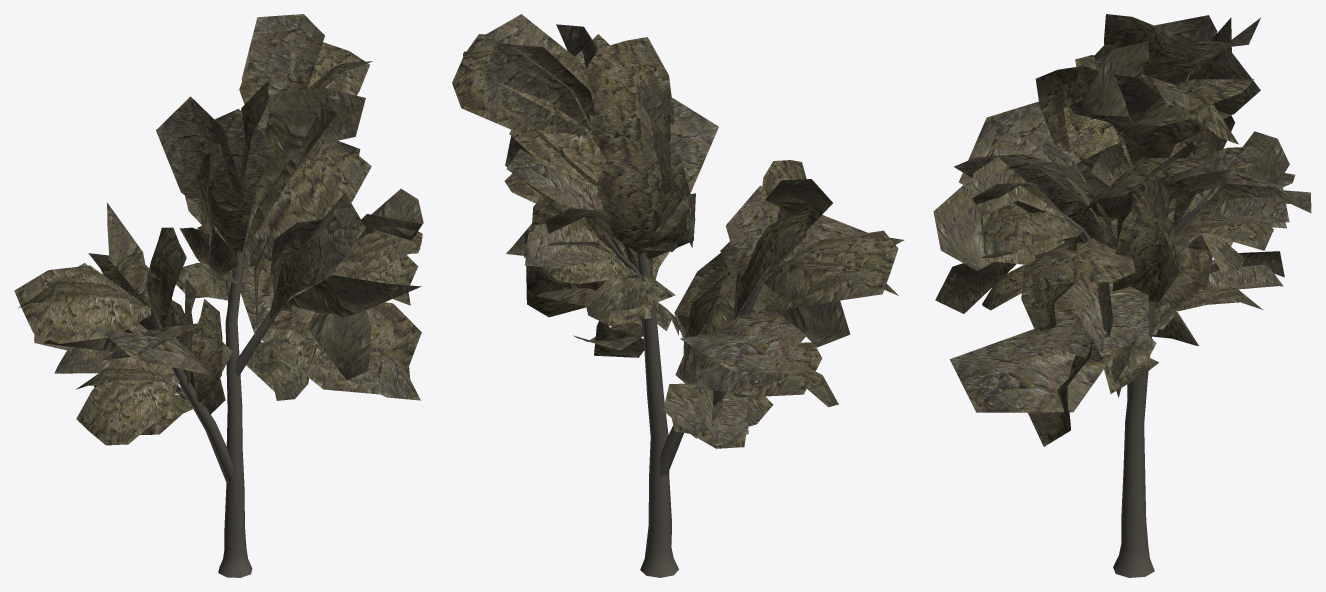
File: arbol1.fbx
3 renders of one model, left to right at view 1: azimuth 30°, elevation 25°; view 2: azimuth 150°, elevation 25°; view 3: azimuth 270°, elevation 25°, orthographic. The views are drawn at different scales.
Visible parts, largest first — view 1: Foliage_Trees_01; view 2: Foliage_Trees_01; view 3: Foliage_Trees_01.
Boxes of the visible parts, left/top/right/bottom form: Foliage_Trees_01: left=14, top=14, right=423, bottom=577; Foliage_Trees_01: left=452, top=14, right=904, bottom=577; Foliage_Trees_01: left=933, top=14, right=1311, bottom=577.
Bounding box in the file's own units: 341 × 439 × 253.
